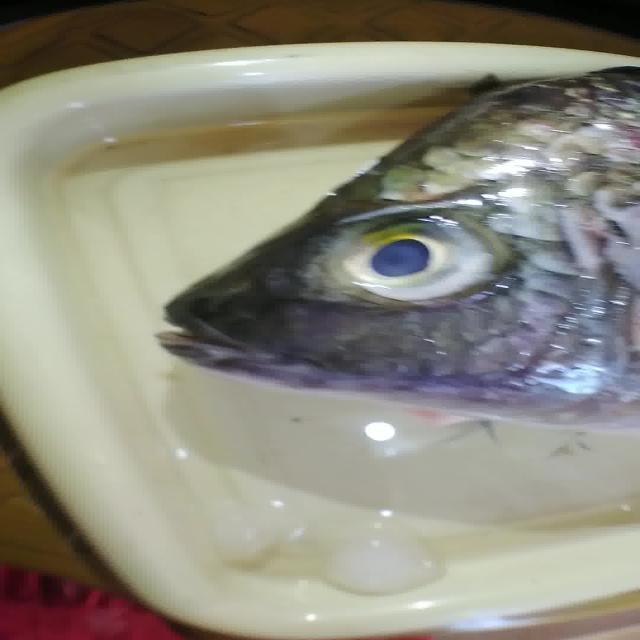Fresh: (324, 208, 519, 309)
